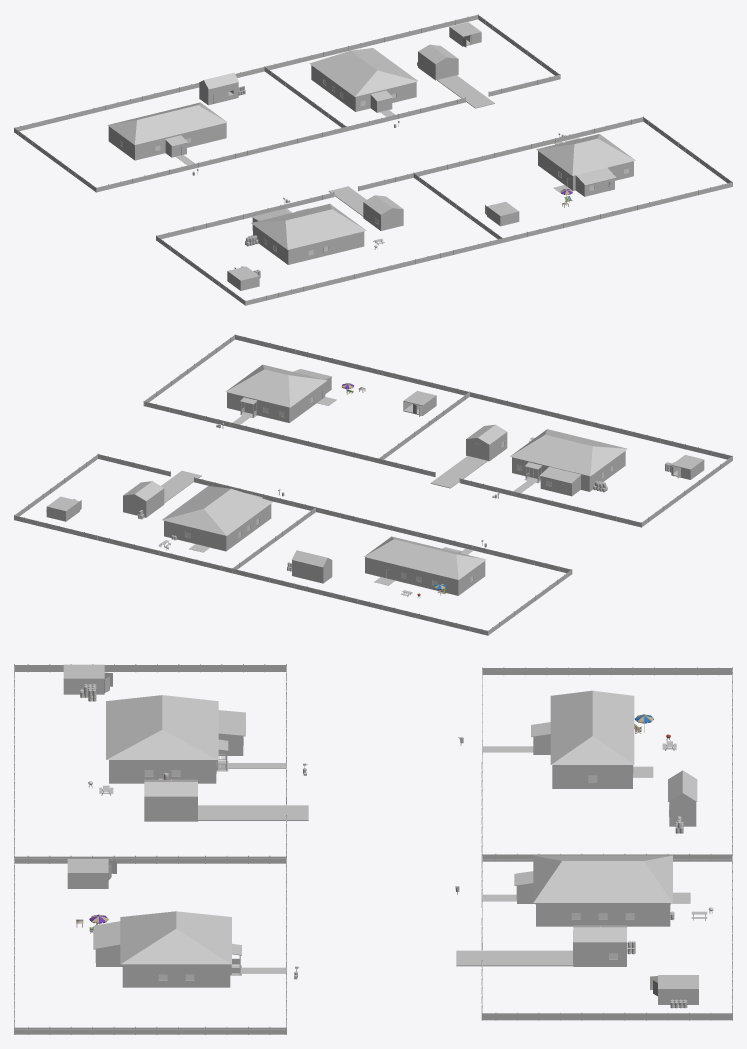
Rendered from HauseHutor07.fbx.
3 views of the same model, one above another, from view 1: azimuth 30°, elevation 25°; view 2: azimuth 150°, elevation 25°; view 3: azimuth 270°, elevation 25° (orthographic). The views are drawn at different scales.
Visible parts, largest first — view 1: Zabor.009, Zabor.003, Zabor.106, Roof.067, Zabor.038, Roof.029, RoofHause.008, Roof.013, HauseH.005, HauseE.011, HauseB.002, Garaje.002 (+8 smaller); view 2: Zabor.009, Zabor.003, Zabor.038, Roof.067, Zabor.106, Roof.029, RoofHause.008, Roof.013, HauseE.011, HauseB.002, HauseE.007, Garaje.043 (+8 smaller); view 3: Roof.029, Roof.067, RoofHause.008, Roof.013, Zabor.009, Zabor.106, HauseB.002, HauseE.007, Garaje.002, HauseH.005, Garaje.043, Zabor.038 (+11 smaller).
Boxes of the visible parts, bbox=[...] form: Zabor.009: bbox=[413, 116, 732, 242]; Zabor.003: bbox=[156, 173, 502, 305]; Zabor.106: bbox=[264, 14, 560, 131]; Roof.067: bbox=[309, 48, 418, 96]; Zabor.038: bbox=[14, 67, 346, 192]; Roof.029: bbox=[251, 203, 366, 249]; RoofHause.008: bbox=[107, 102, 227, 144]; Roof.013: bbox=[536, 134, 635, 175]; HauseH.005: bbox=[253, 225, 364, 264]; HauseE.011: bbox=[108, 123, 226, 160]; HauseB.002: bbox=[311, 65, 416, 111]; Garaje.002: bbox=[363, 195, 403, 230]; Zabor.009: bbox=[143, 334, 469, 463]; Zabor.003: bbox=[378, 392, 732, 527]; Zabor.038: bbox=[232, 507, 572, 635]; Roof.067: bbox=[162, 486, 272, 535]; Zabor.106: bbox=[14, 453, 316, 573]; Roof.029: bbox=[510, 429, 627, 476]; RoofHause.008: bbox=[364, 536, 486, 579]; Roof.013: bbox=[225, 364, 327, 407]; HauseE.011: bbox=[365, 557, 485, 595]; HauseB.002: bbox=[164, 504, 271, 550]; HauseE.007: bbox=[227, 382, 325, 422]; Garaje.043: bbox=[123, 481, 164, 517]; Roof.029: bbox=[106, 695, 218, 759]; Roof.067: bbox=[533, 855, 672, 902]; RoofHause.008: bbox=[550, 690, 634, 764]; Roof.013: bbox=[120, 911, 231, 964]; Zabor.009: bbox=[14, 855, 286, 1034]; Zabor.106: bbox=[481, 853, 732, 1020]; HauseB.002: bbox=[535, 903, 670, 926]; HauseE.007: bbox=[122, 964, 230, 987]; Garaje.002: bbox=[144, 779, 197, 820]; HauseH.005: bbox=[109, 760, 216, 783]; Garaje.043: bbox=[573, 925, 626, 966]; Zabor.038: bbox=[481, 667, 732, 853].
Bounding box in the file's own units: 12785 × 758 × 10699.
